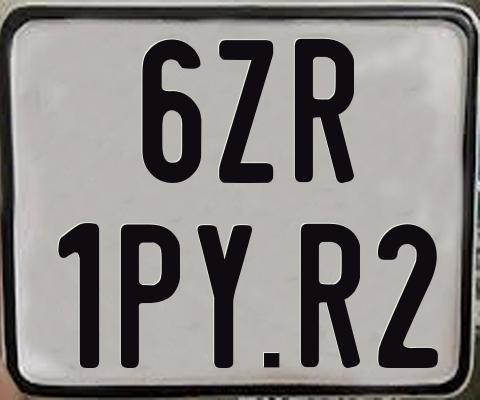1: (56, 221, 102, 370)
2: (377, 224, 440, 372)
6: (139, 39, 204, 186)
P: (120, 222, 181, 372)
R: (300, 222, 364, 370), (292, 38, 352, 184)
Y: (195, 222, 256, 368)
Z: (219, 37, 273, 184)
